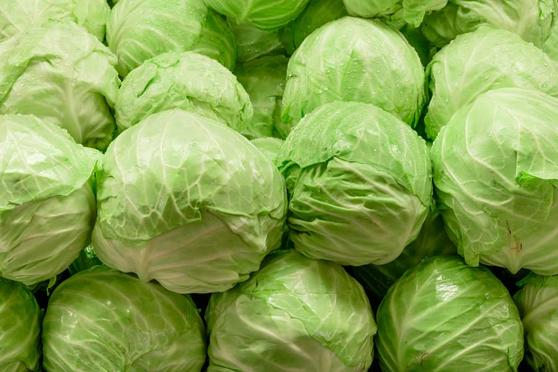cabbage: (99, 109, 292, 294), (287, 101, 433, 267), (435, 83, 558, 271), (208, 253, 376, 372), (372, 258, 525, 372)
